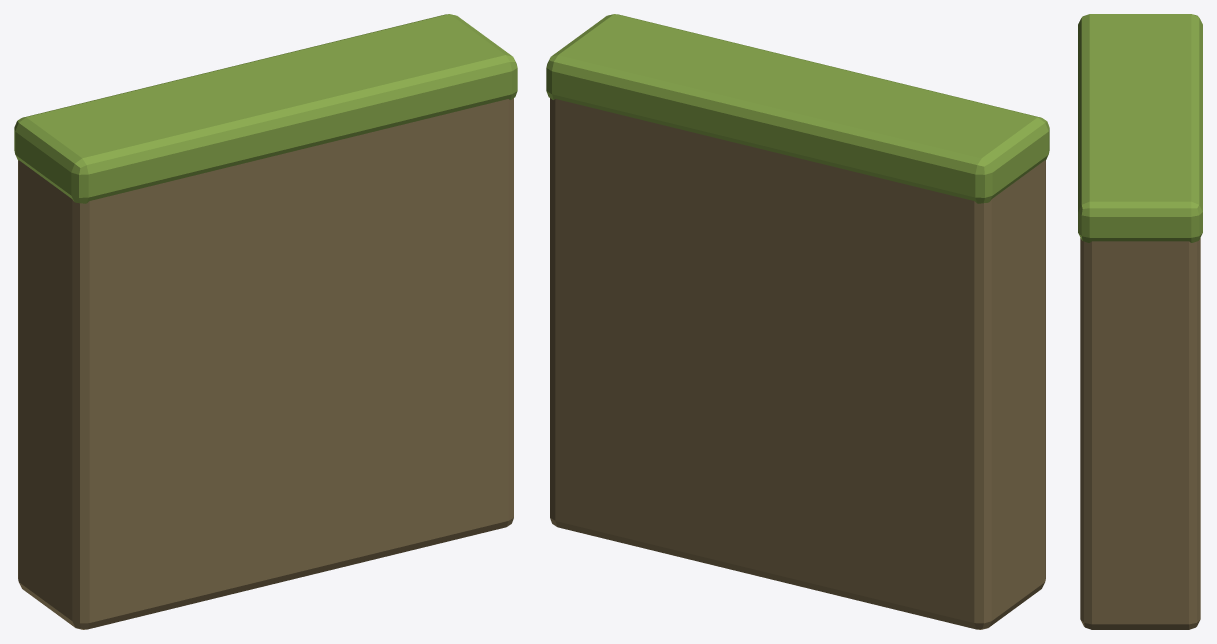
Rendered from SM_Platform_2m_Half_01_C.fbx.
The picture shows the model from 3 angles, left to right: view 1: azimuth 30°, elevation 25°; view 2: azimuth 150°, elevation 25°; view 3: azimuth 270°, elevation 25°; orthographic projection. The views are drawn at different scales.
Visible parts, largest first — view 1: polySurface87; view 2: polySurface87; view 3: polySurface87.
Boxes of the visible parts, box(x1,y1,x2,y2) form: polySurface87: box(14, 14, 517, 629); polySurface87: box(546, 14, 1049, 629); polySurface87: box(1078, 14, 1202, 629).
Size of the model in its own units: 202 by 205 by 54.
